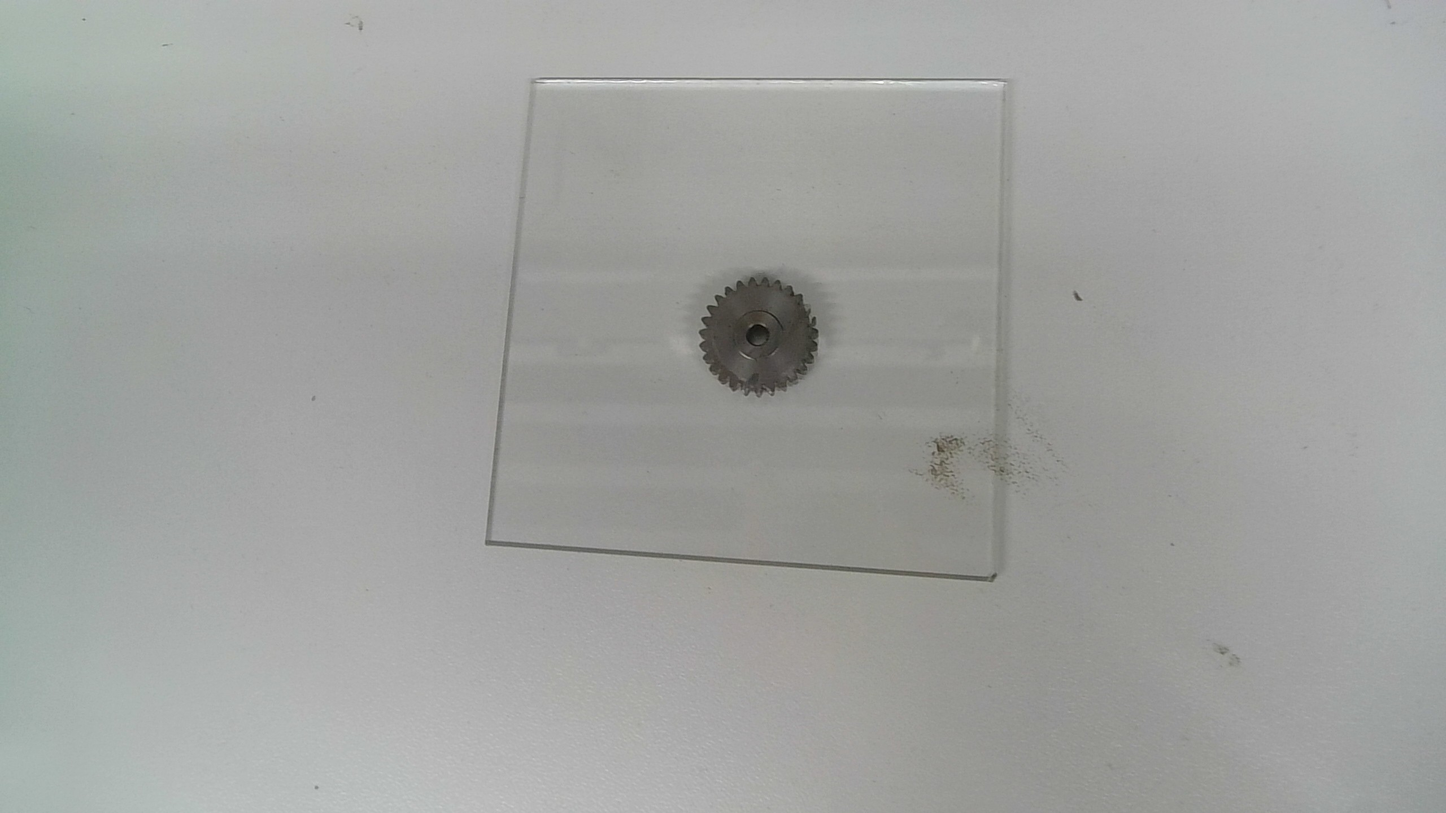gear: (696, 273, 820, 402)
